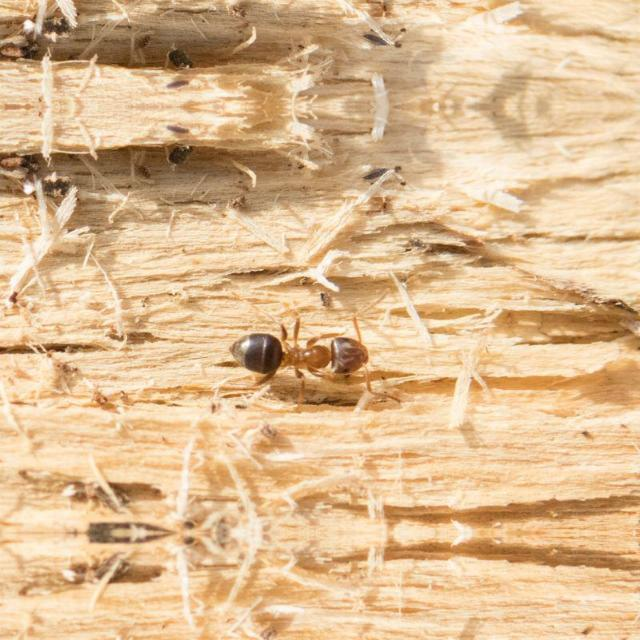Lasius: (228, 298, 388, 414)
